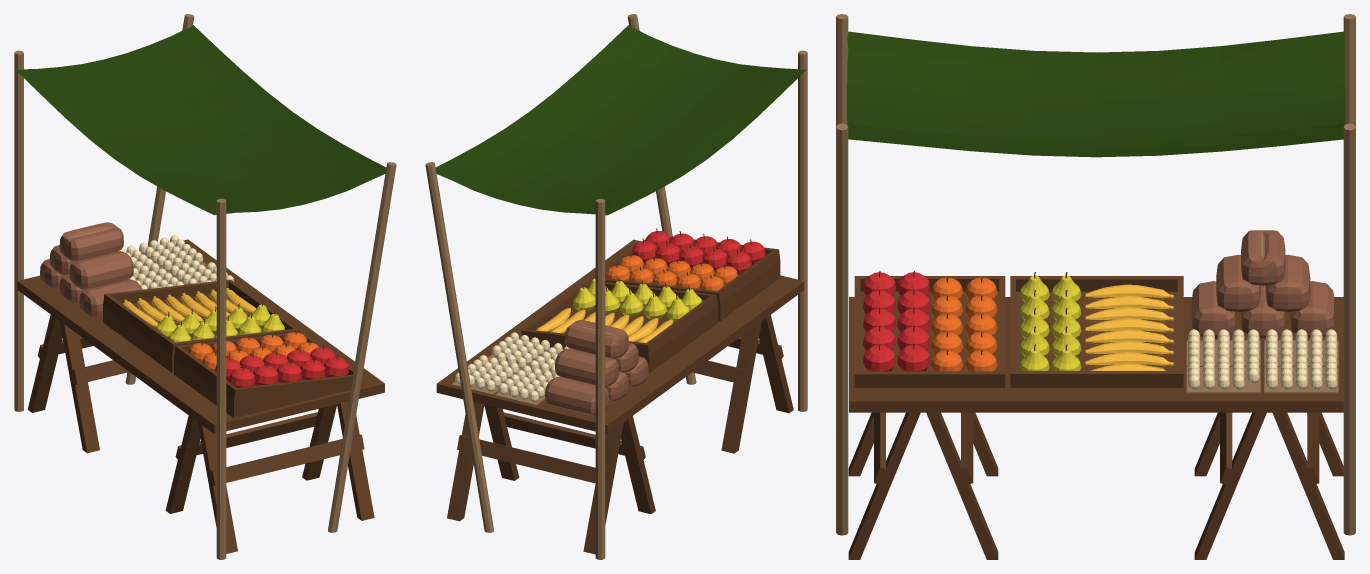
The model's file is Delikatessenstand.fbx.
The picture shows the model from 3 angles, left to right: view 1: azimuth 30°, elevation 25°; view 2: azimuth 150°, elevation 25°; view 3: azimuth 270°, elevation 25°; orthographic projection. The views are drawn at different scales.
Parts seen in each view (by area): view 1: Delikatessenstand; view 2: Delikatessenstand; view 3: Delikatessenstand.
Part boxes in pixels (x1,y1,x2,y2): Delikatessenstand: (14, 14, 396, 559); Delikatessenstand: (425, 14, 807, 559); Delikatessenstand: (836, 14, 1355, 559).
Size of the model in its own units: 422 by 800 by 841.
